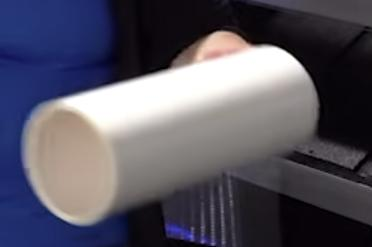coral: (20, 45, 319, 226)
